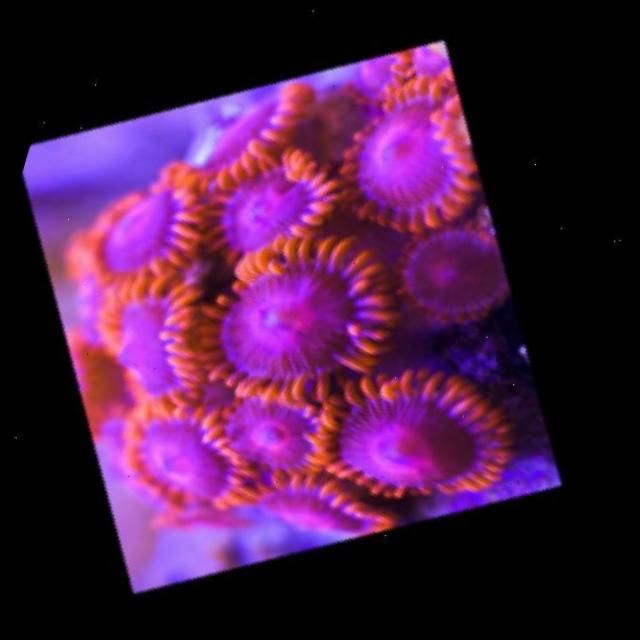Healthy Coral: (62, 74, 537, 538)
